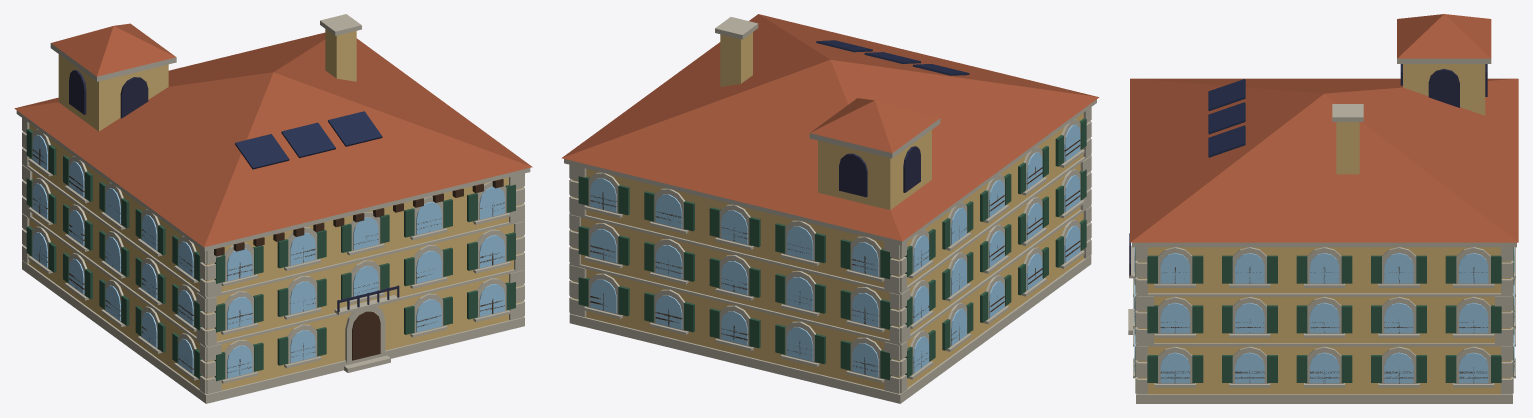
Rendered from house-2x2-3f-tuscan-a-solar.glb.
3 renders of one model, left to right at view 1: azimuth 30°, elevation 25°; view 2: azimuth 150°, elevation 25°; view 3: azimuth 270°, elevation 25°, orthographic. The views are drawn at different scales.
Parts seen in each view (by area): view 1: house-2x2-3f-tuscan-a-solar; view 2: house-2x2-3f-tuscan-a-solar; view 3: house-2x2-3f-tuscan-a-solar.
Part boxes in pixels (box(x1,y1,x2,y2)): house-2x2-3f-tuscan-a-solar: box(14, 14, 532, 403); house-2x2-3f-tuscan-a-solar: box(561, 14, 1099, 403); house-2x2-3f-tuscan-a-solar: box(1128, 14, 1518, 403).
Bounding box in the file's own units: 1.98 × 1.46 × 1.99.
Materials: 1 (1 with a texture image).
